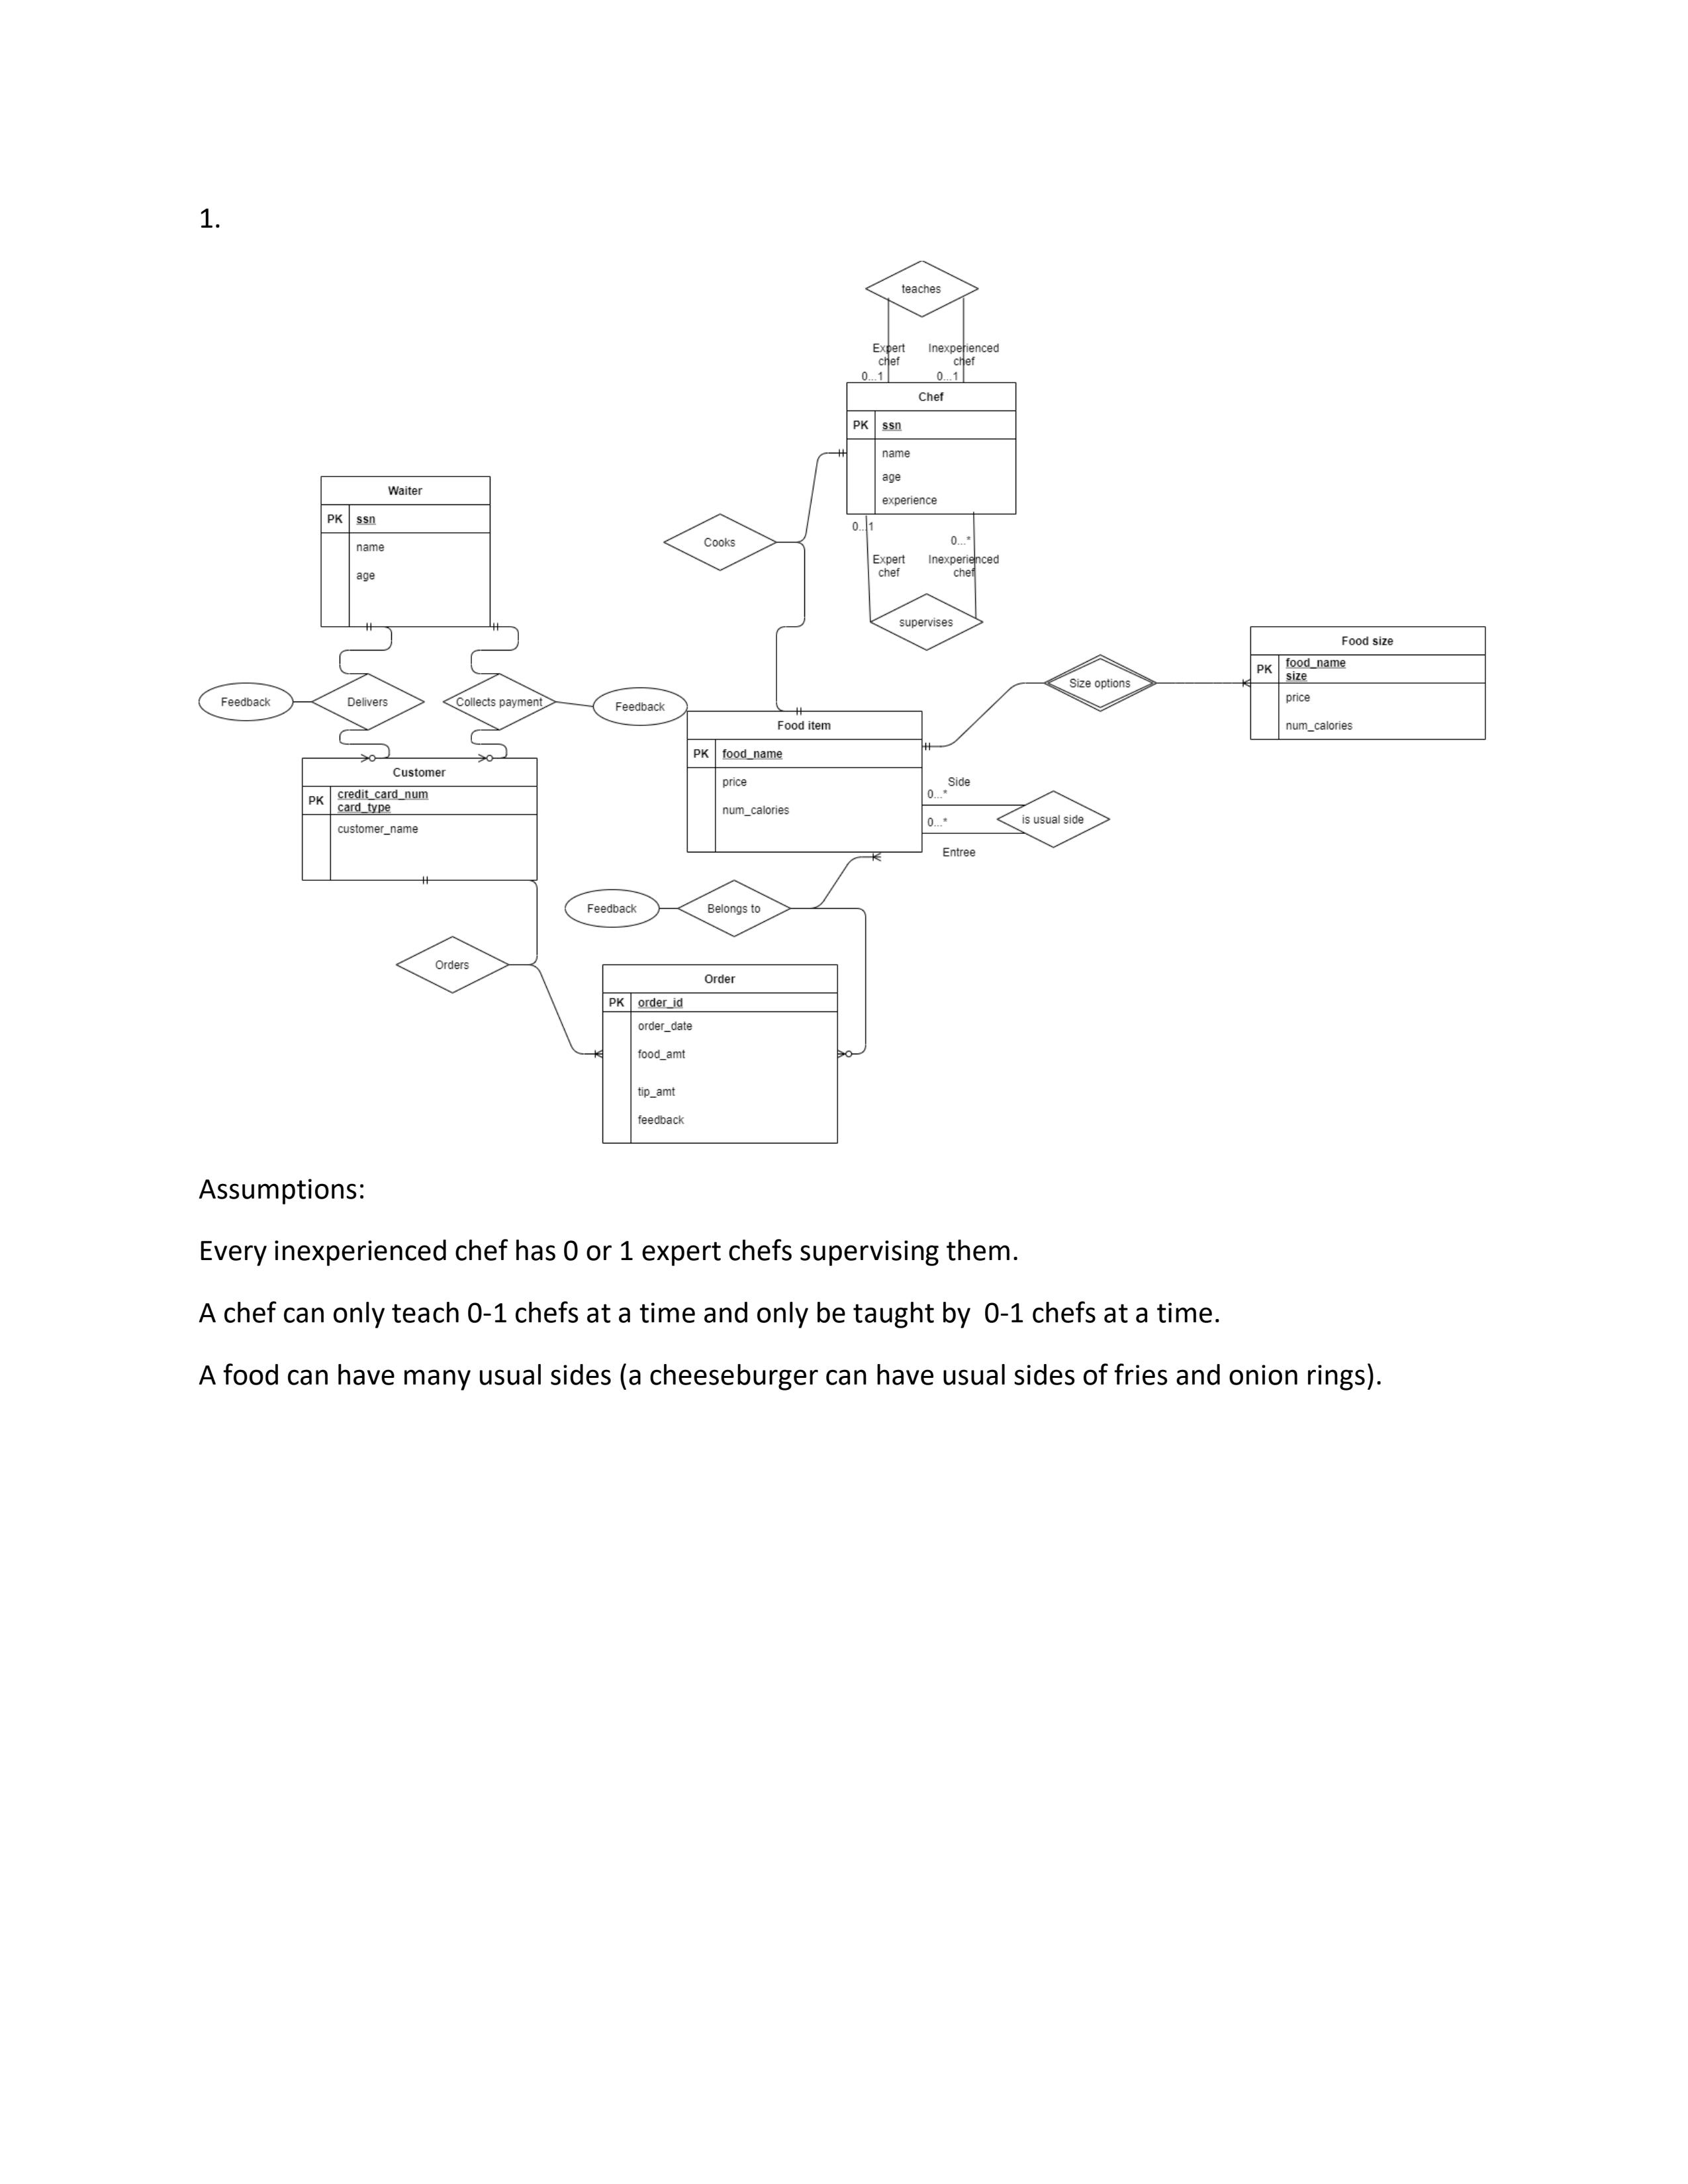Attribute: (562, 888, 660, 927), (592, 686, 688, 725), (199, 682, 293, 721)
Entity: (601, 963, 839, 1145), (686, 709, 924, 854), (300, 755, 539, 883), (1248, 624, 1489, 745), (319, 475, 491, 629), (844, 381, 1018, 518)
Relationship: (996, 789, 1110, 849), (865, 259, 981, 317), (394, 936, 509, 994), (663, 512, 777, 571), (677, 879, 791, 938), (442, 674, 557, 730), (1044, 652, 1156, 711), (312, 674, 426, 730), (871, 594, 982, 649)
